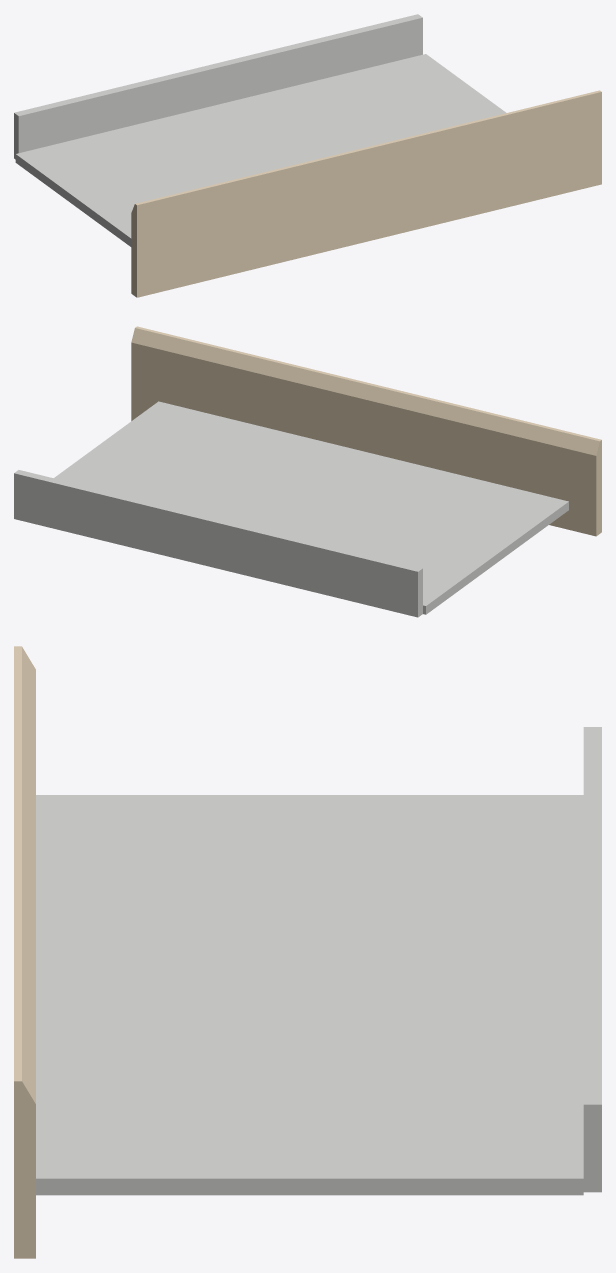
Rendered from skuff_N3_3.glb.
3 views of the same model, one above another, from view 1: azimuth 30°, elevation 25°; view 2: azimuth 150°, elevation 25°; view 3: azimuth 270°, elevation 25° (orthographic). The views are drawn at different scales.
Bounding box in the file's own units: 894 × 170 × 511.
